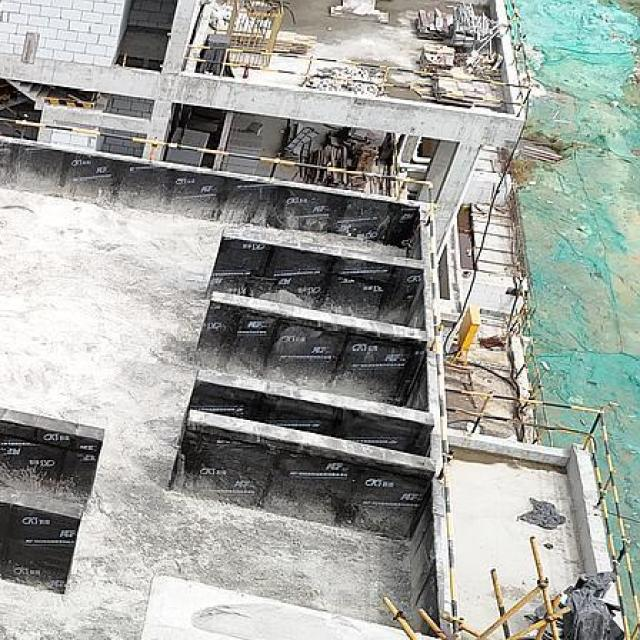Guardrail: (1, 113, 460, 640), (444, 384, 640, 640), (184, 0, 532, 117)
